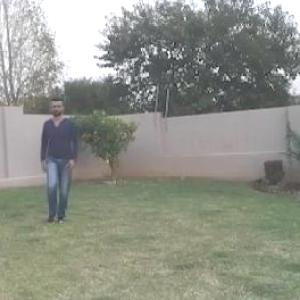follow: (39, 99, 78, 221)
